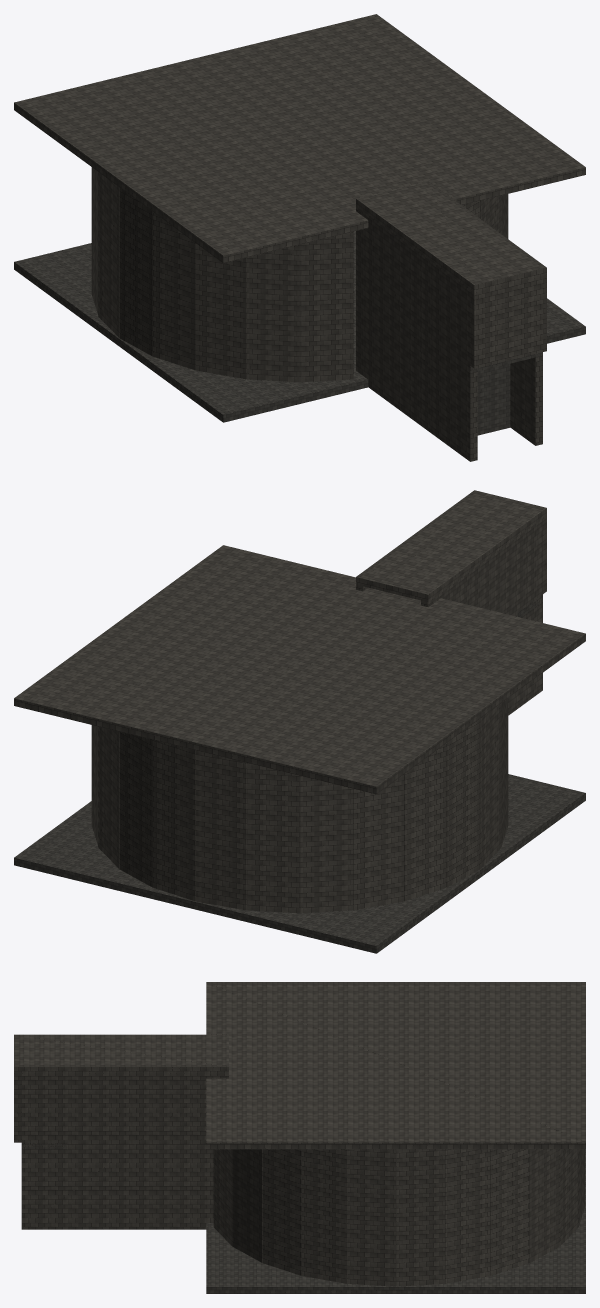
File: jazigo.glb
3 views of the same model, one above another, from view 1: azimuth 30°, elevation 25°; view 2: azimuth 150°, elevation 25°; view 3: azimuth 270°, elevation 25° (orthographic). The views are drawn at different scales.
Visible parts, largest first — view 1: teto-col, cripta-col, escada-col; view 2: teto-col, cripta-col, escada-col; view 3: teto-col, cripta-col, escada-col.
Boxes of the visible parts, box(x1,y1,x2,y2) form: teto-col: box(14, 14, 585, 263); cripta-col: box(14, 167, 585, 422); escada-col: box(356, 181, 546, 461); teto-col: box(14, 545, 585, 794); cripta-col: box(14, 698, 585, 953); escada-col: box(356, 490, 546, 715); teto-col: box(206, 982, 585, 1149); cripta-col: box(206, 1149, 585, 1293); escada-col: box(14, 1034, 228, 1229).
Bounding box in the file's own units: 15 × 7.1 × 22.6.
Materials: 7 (7 with a texture image).
